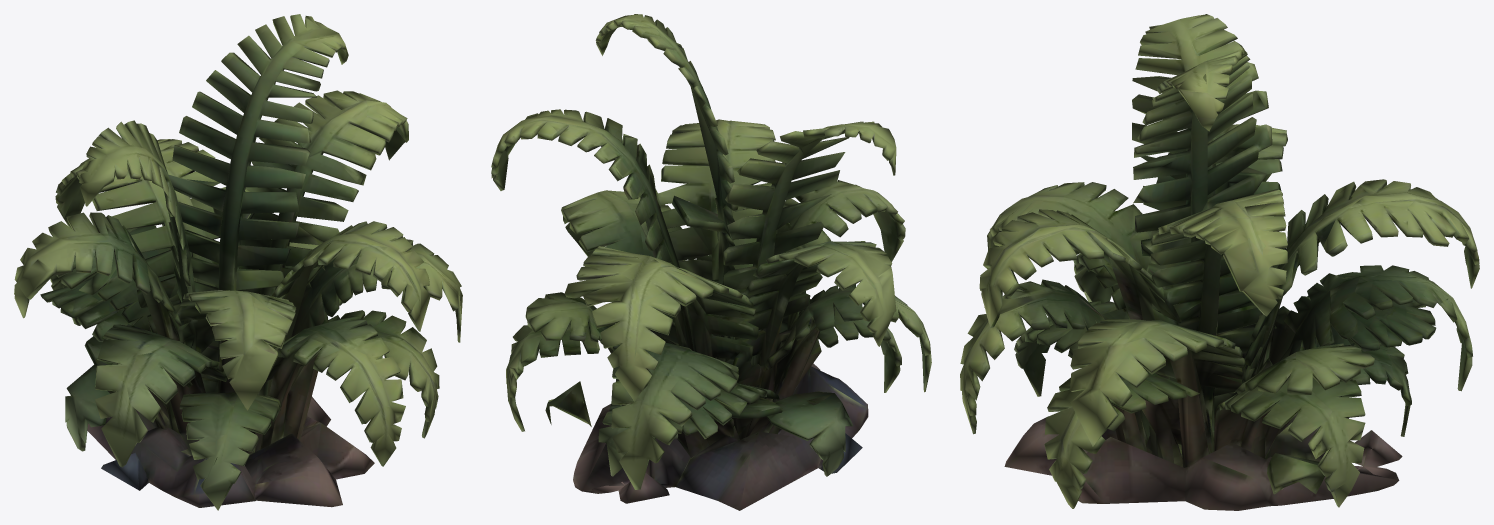
The model's file is fren3.opt.glb.
3 renders of one model, left to right at view 1: azimuth 30°, elevation 25°; view 2: azimuth 150°, elevation 25°; view 3: azimuth 270°, elevation 25°, orthographic. The views are drawn at different scales.
Parts seen in each view (by area): view 1: node_0; view 2: node_0; view 3: node_0.
Part boxes in pixels (x1,y1,x2,y2): node_0: (14, 14, 462, 510); node_0: (491, 14, 931, 510); node_0: (960, 14, 1479, 510).
Bounding box in the file's own units: 0.9023 × 0.8987 × 0.9609.
Materials: 1 (1 with a texture image).
